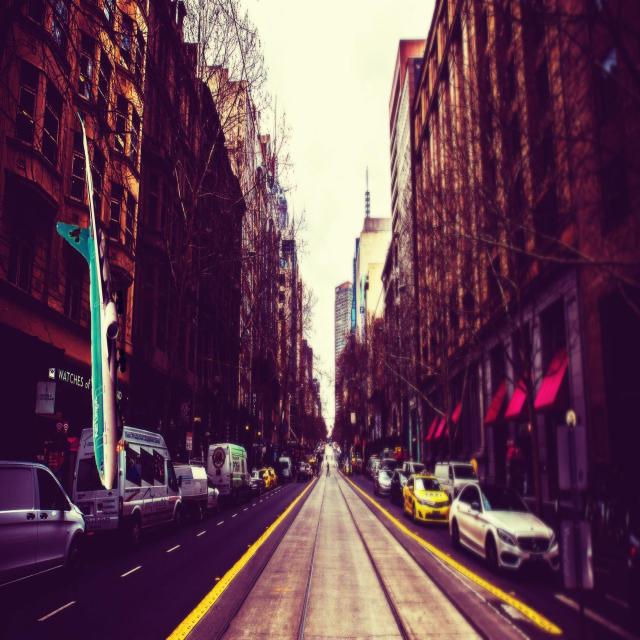airplane: (56, 108, 128, 489)
